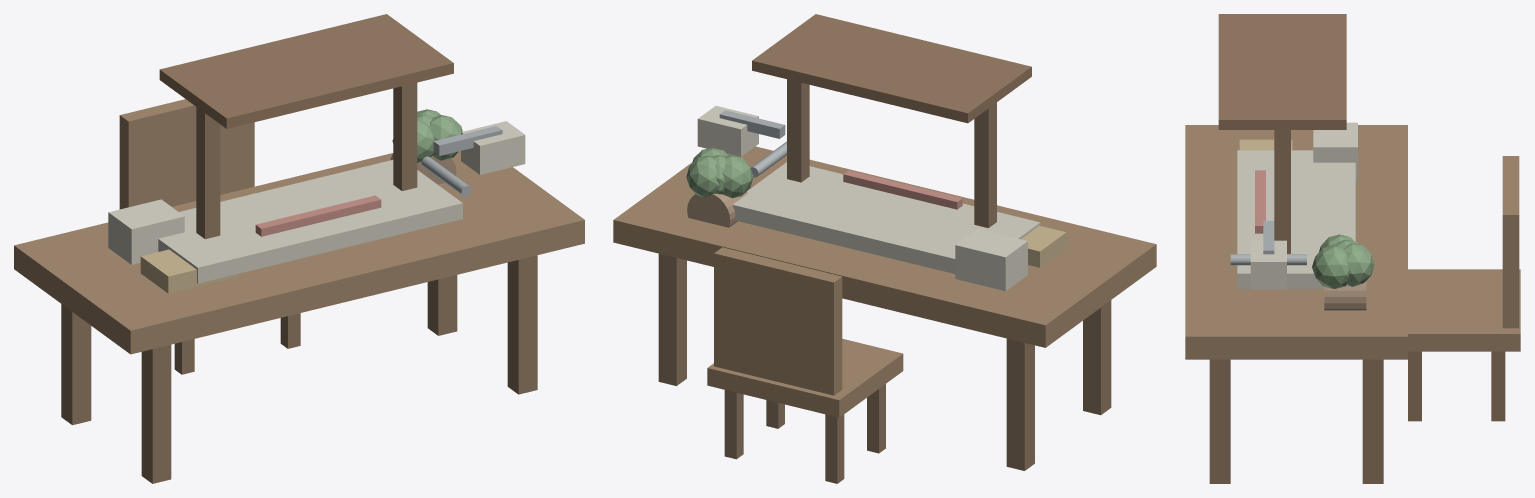
The model's file is ban-xa-buc-3d.glb.
3 renders of one model, left to right at view 1: azimuth 30°, elevation 25°; view 2: azimuth 150°, elevation 25°; view 3: azimuth 270°, elevation 25°, orthographic. The views are drawn at different scales.
Visible parts, largest first — view 1: world, tabletop, header, paperpad; view 2: world, tabletop, header, paperpad; view 3: tabletop, world, header, paperpad.
Boxes of the visible parts, <box> form: world: <box>61,82,537,483</box>; tabletop: <box>14,151,584,354</box>; header: <box>159,14,453,128</box>; paperpad: <box>158,160,462,283</box>; world: <box>658,79,1111,483</box>; tabletop: <box>613,146,1156,347</box>; header: <box>752,14,1031,123</box>; paperpad: <box>733,162,1040,273</box>; tabletop: <box>1185,125,1407,359</box>; world: <box>1209,122,1520,483</box>; header: <box>1218,14,1346,129</box>; paperpad: <box>1237,150,1355,288</box>.
Bounding box in the file's own units: 3.6 × 2.59 × 2.41.
